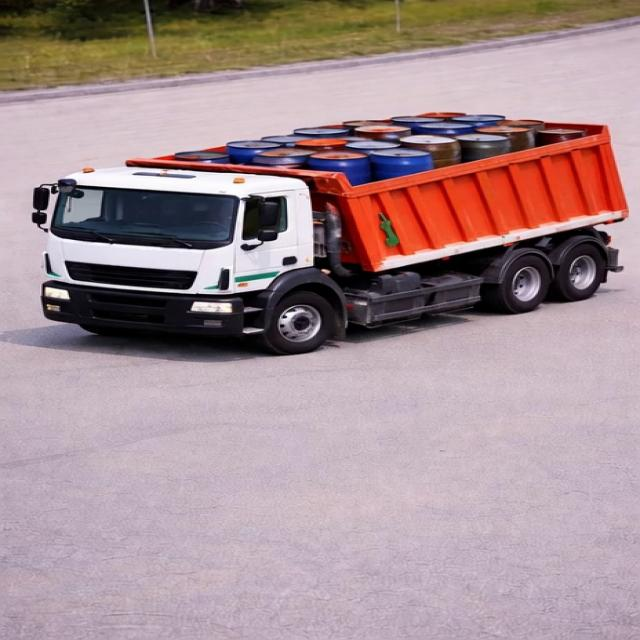Box: (138, 106, 614, 192)
Truck: (26, 61, 638, 353)
